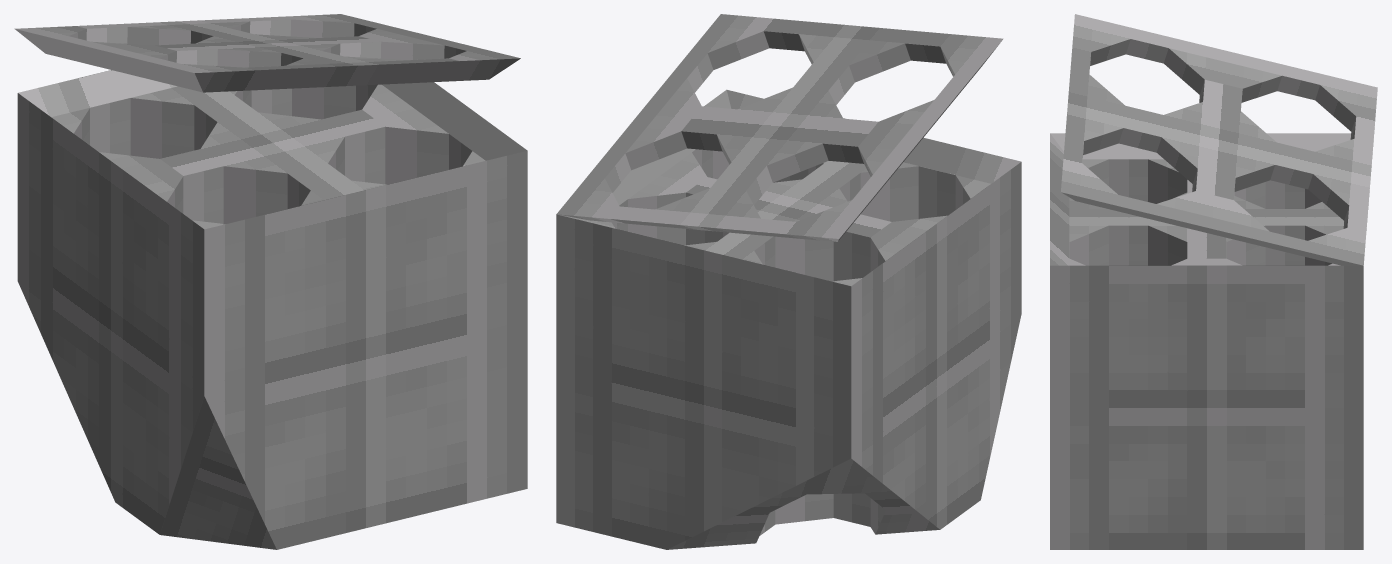
File: deb_element.obj
3 views of the same model, side by side, from view 1: azimuth 30°, elevation 25°; view 2: azimuth 150°, elevation 25°; view 3: azimuth 270°, elevation 25° (orthographic). The views are drawn at different scales.
Parts seen in each view (by area): view 1: Column; view 2: Column; view 3: Column.
Boxes of the visible parts, bbox=[...] form: Column: bbox=[14, 14, 527, 549]; Column: bbox=[556, 14, 1021, 549]; Column: bbox=[1050, 14, 1377, 549].
Bounding box in the file's own units: 1 × 1.43 × 1.04.
